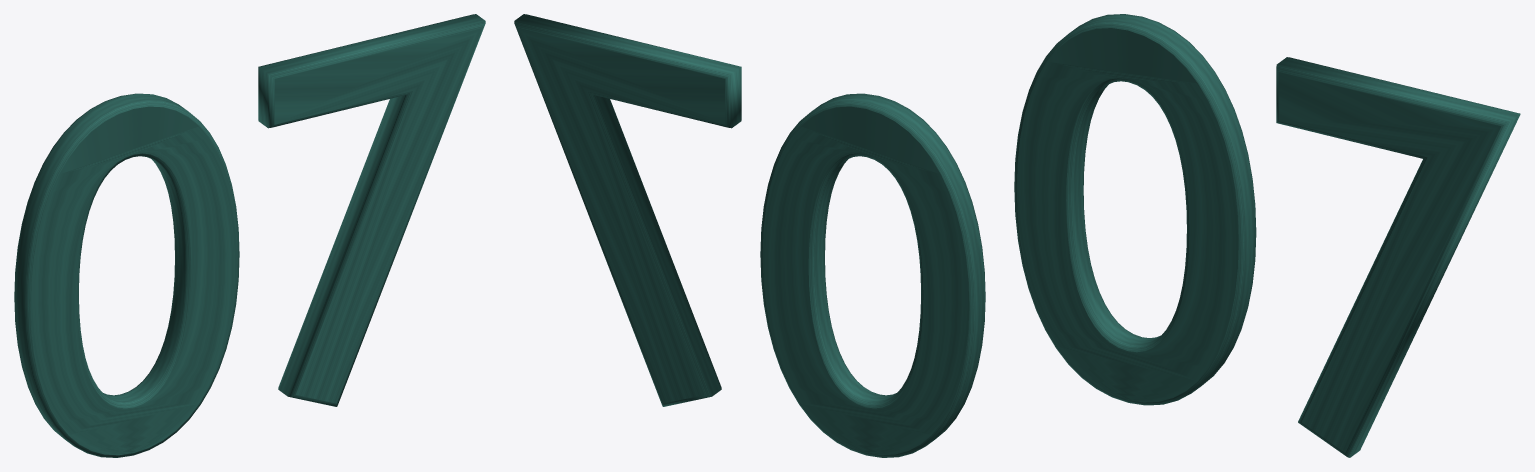
File: Lighthouse_Plaque.fbx
3 views of the same model, side by side, from view 1: azimuth 30°, elevation 25°; view 2: azimuth 150°, elevation 25°; view 3: azimuth 330°, elevation 25° (orthographic). The views are drawn at different scales.
Parts seen in each view (by area): view 1: Lighthouse_Plaque; view 2: Lighthouse_Plaque; view 3: Lighthouse_Plaque.
Part boxes in pixels (x1=…): Lighthouse_Plaque: x1=14, y1=14, x2=485, y2=457; Lighthouse_Plaque: x1=514, y1=14, x2=985, y2=457; Lighthouse_Plaque: x1=1014, y1=14, x2=1520, y2=457.
Bounding box in the file's own units: 45.18 × 2.4 × 33.13.
